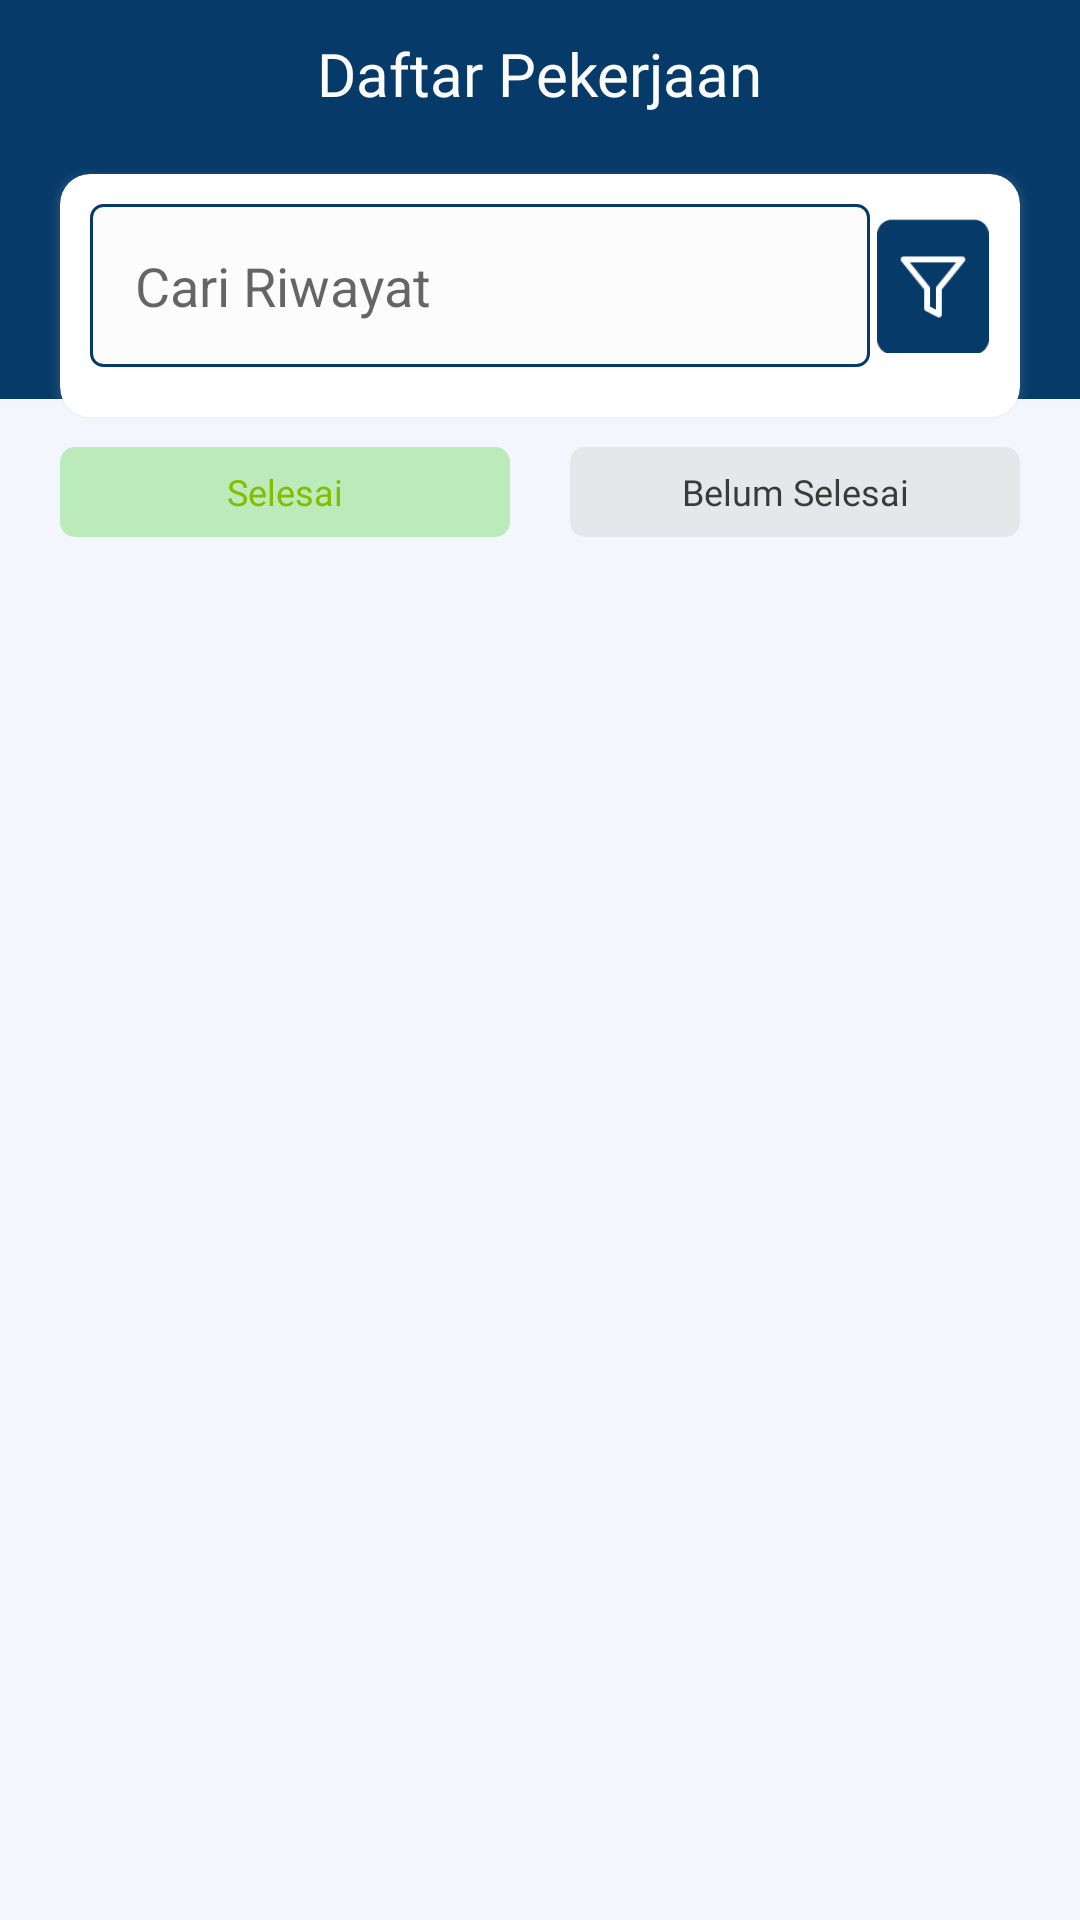

Named icons in this screenshot (1080w x 1920h) and their centers, point (x, y):
filter: point (933, 286)
